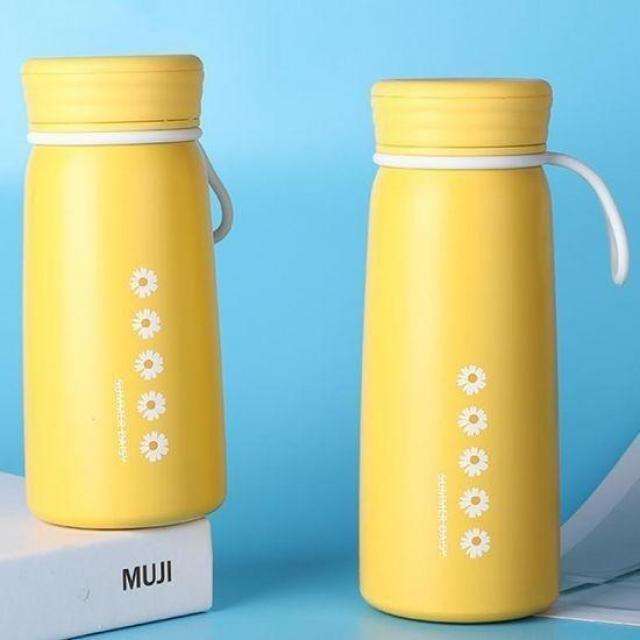gym bottle: (352, 71, 566, 626), (18, 47, 232, 534)
